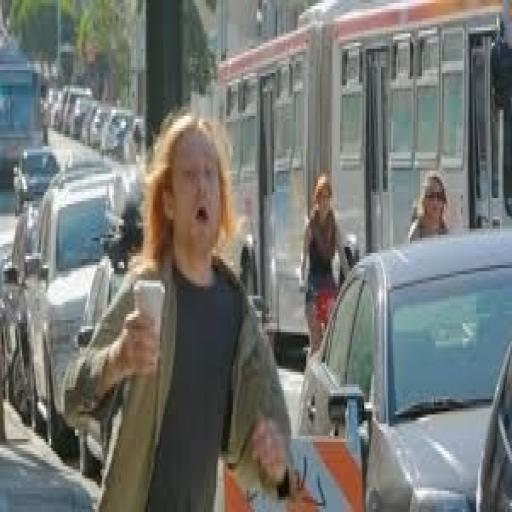running: (61, 107, 296, 509)
